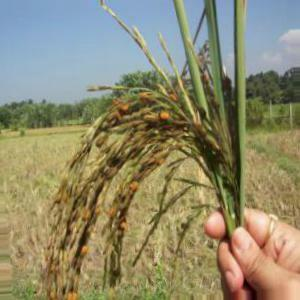Leaf_Scald: (100, 102, 130, 127), (108, 202, 130, 236), (126, 174, 144, 194), (73, 241, 90, 262), (136, 90, 156, 106), (149, 112, 173, 122), (61, 290, 80, 300)
